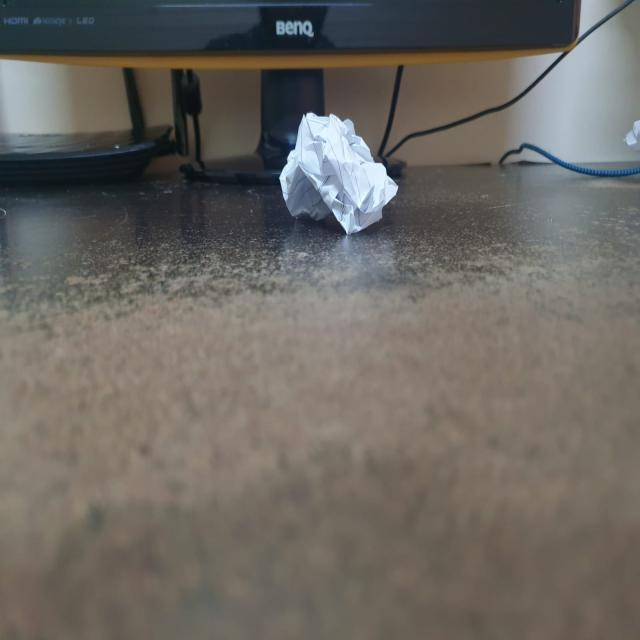Paper: (277, 112, 402, 236)
